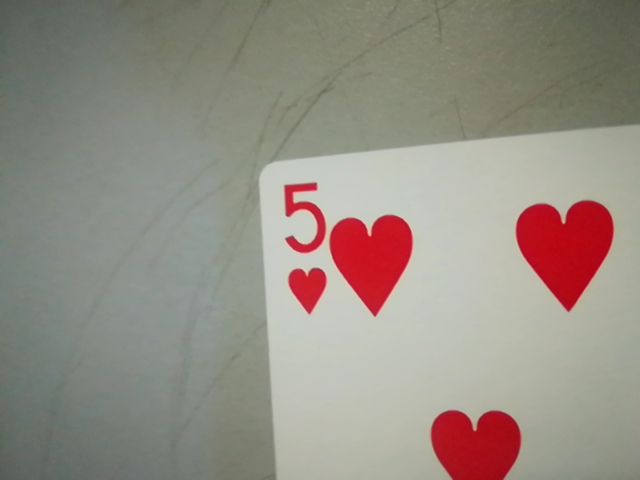hx 5: (268, 173, 331, 322)
